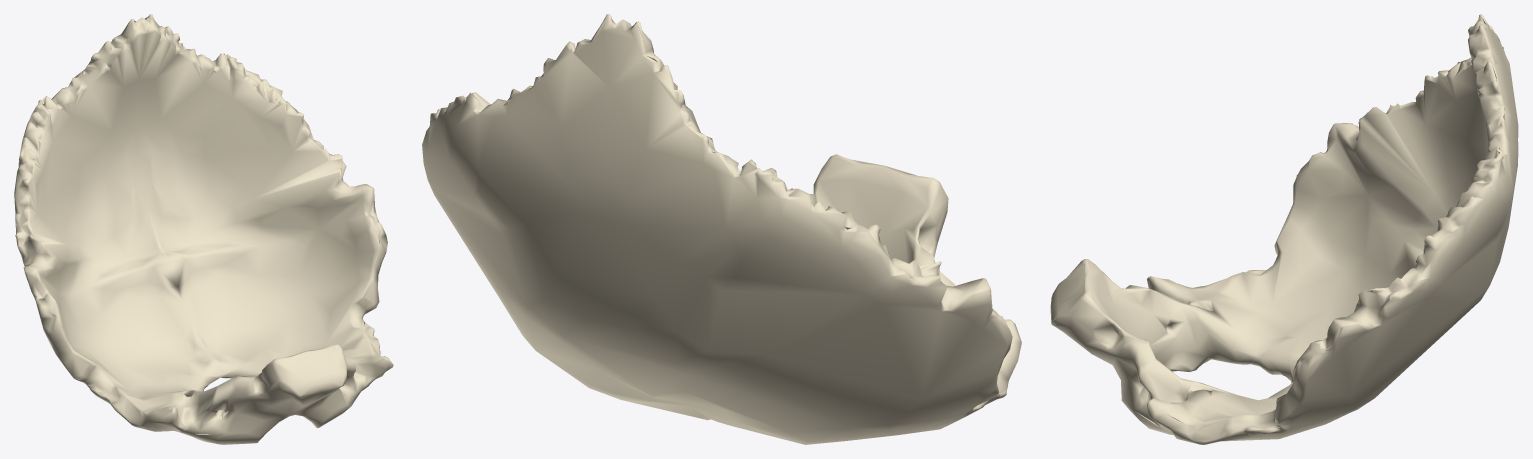
Rendered from esqueleto-occipital-bone.glb.
The picture shows the model from 3 angles, left to right: view 1: azimuth 30°, elevation 25°; view 2: azimuth 150°, elevation 25°; view 3: azimuth 270°, elevation 25°; orthographic projection. The views are drawn at different scales.
Parts seen in each view (by area): view 1: Occipital bone; view 2: Occipital bone; view 3: Occipital bone.
Part boxes in pixels (bbox=[...]): Occipital bone: bbox=[14, 14, 393, 444]; Occipital bone: bbox=[422, 14, 1021, 444]; Occipital bone: bbox=[1050, 14, 1518, 444].
Bounding box in the file's own units: 0.1193 × 0.1045 × 0.1158.
